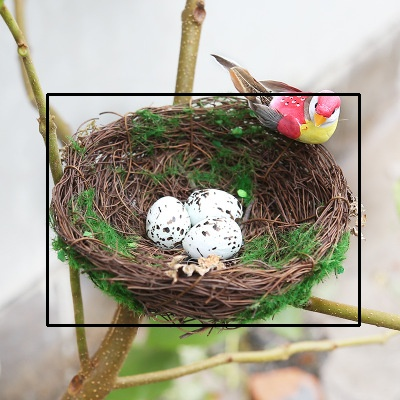bird-nest: (42, 93, 363, 324)
